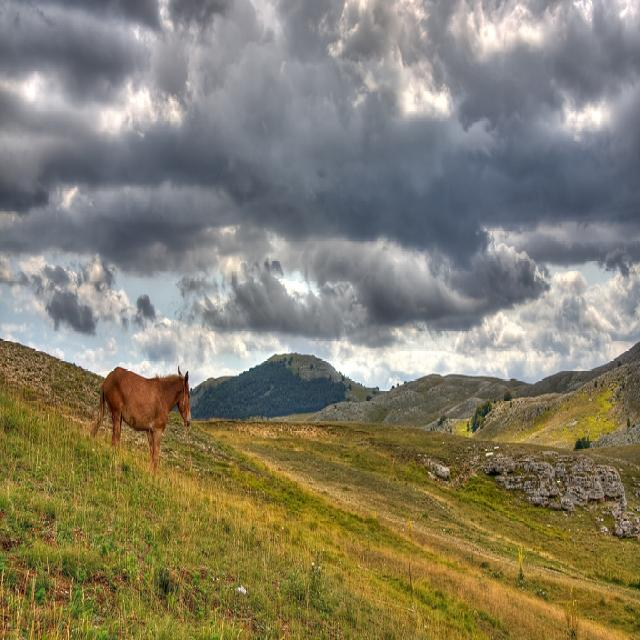Horse: (87, 366, 192, 480)
